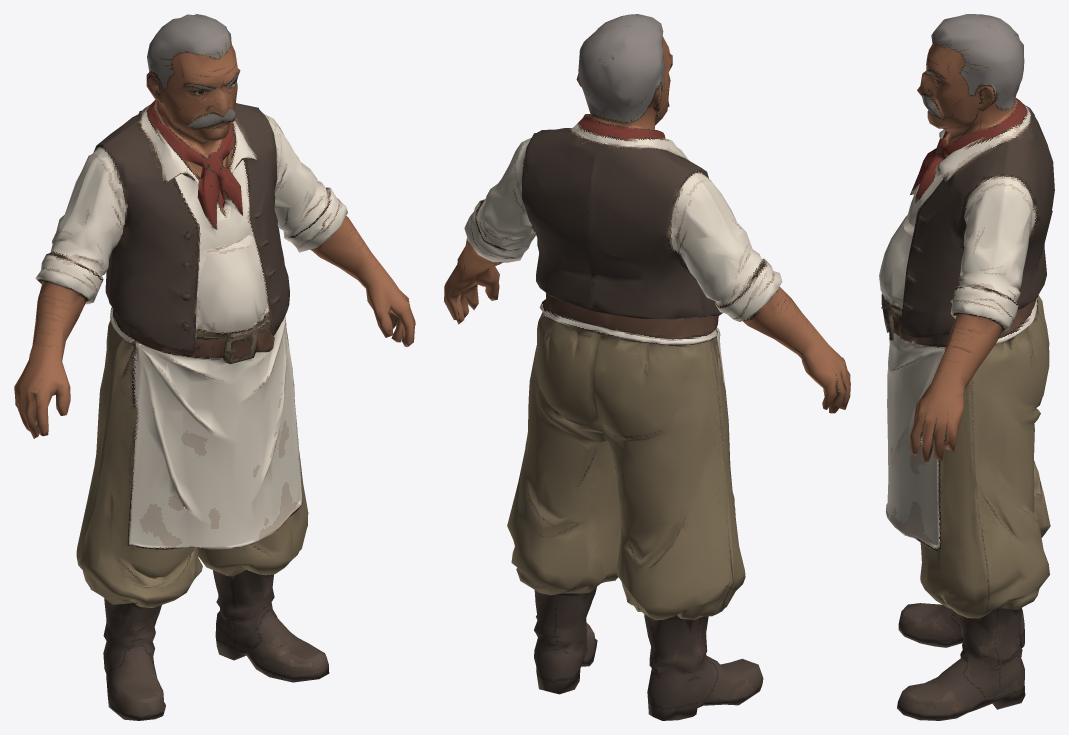
Rendered from braulio.glb.
3 renders of one model, left to right at view 1: azimuth 30°, elevation 25°; view 2: azimuth 150°, elevation 25°; view 3: azimuth 270°, elevation 25°, orthographic. The views are drawn at different scales.
Parts seen in each view (by area): view 1: tripo_node_86e69778-ab4f-4f83-8002-3750f7e85327; view 2: tripo_node_86e69778-ab4f-4f83-8002-3750f7e85327; view 3: tripo_node_86e69778-ab4f-4f83-8002-3750f7e85327.
Part boxes in pixels (x1,y1,x2,y2): tripo_node_86e69778-ab4f-4f83-8002-3750f7e85327: (14, 14, 415, 720); tripo_node_86e69778-ab4f-4f83-8002-3750f7e85327: (444, 14, 850, 720); tripo_node_86e69778-ab4f-4f83-8002-3750f7e85327: (879, 14, 1054, 720).
Size of the model in its own units: 0.6204 by 1 by 0.2433.
Materials: 1 (1 with a texture image).
